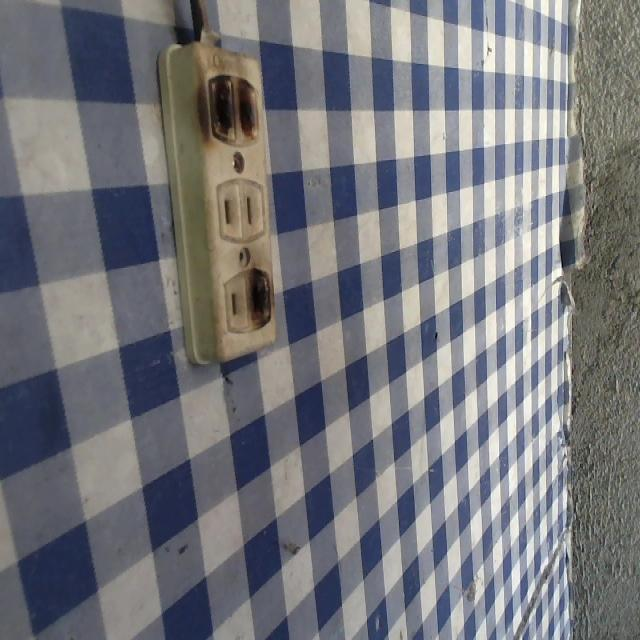-: (199, 70, 261, 146), (237, 261, 280, 331)
